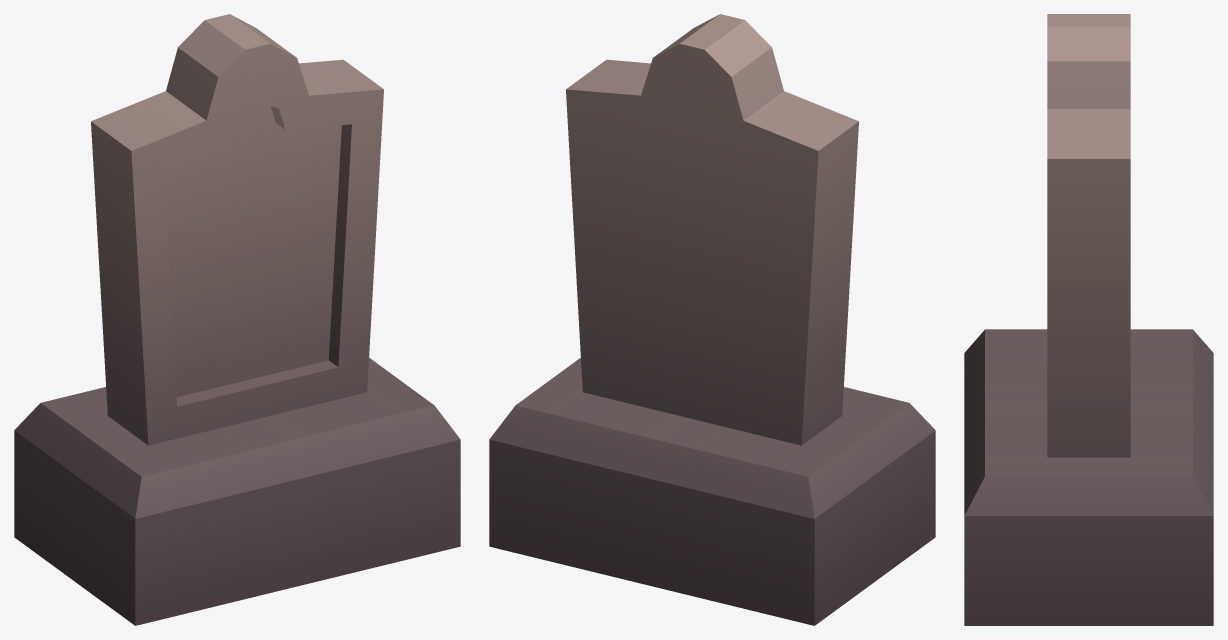
File: tombstone4.glb
The picture shows the model from 3 angles, left to right: view 1: azimuth 30°, elevation 25°; view 2: azimuth 150°, elevation 25°; view 3: azimuth 270°, elevation 25°; orthographic projection. The views are drawn at different scales.
Visible parts, largest first — view 1: tombstone4; view 2: tombstone4; view 3: tombstone4.
Boxes of the visible parts, <box> form: tombstone4: <box>14,14,460,625</box>; tombstone4: <box>489,14,935,625</box>; tombstone4: <box>964,14,1213,625</box>.
Size of the model in its own units: 0.6536 by 0.9791 by 0.4216.
1 material, 1 textured.
